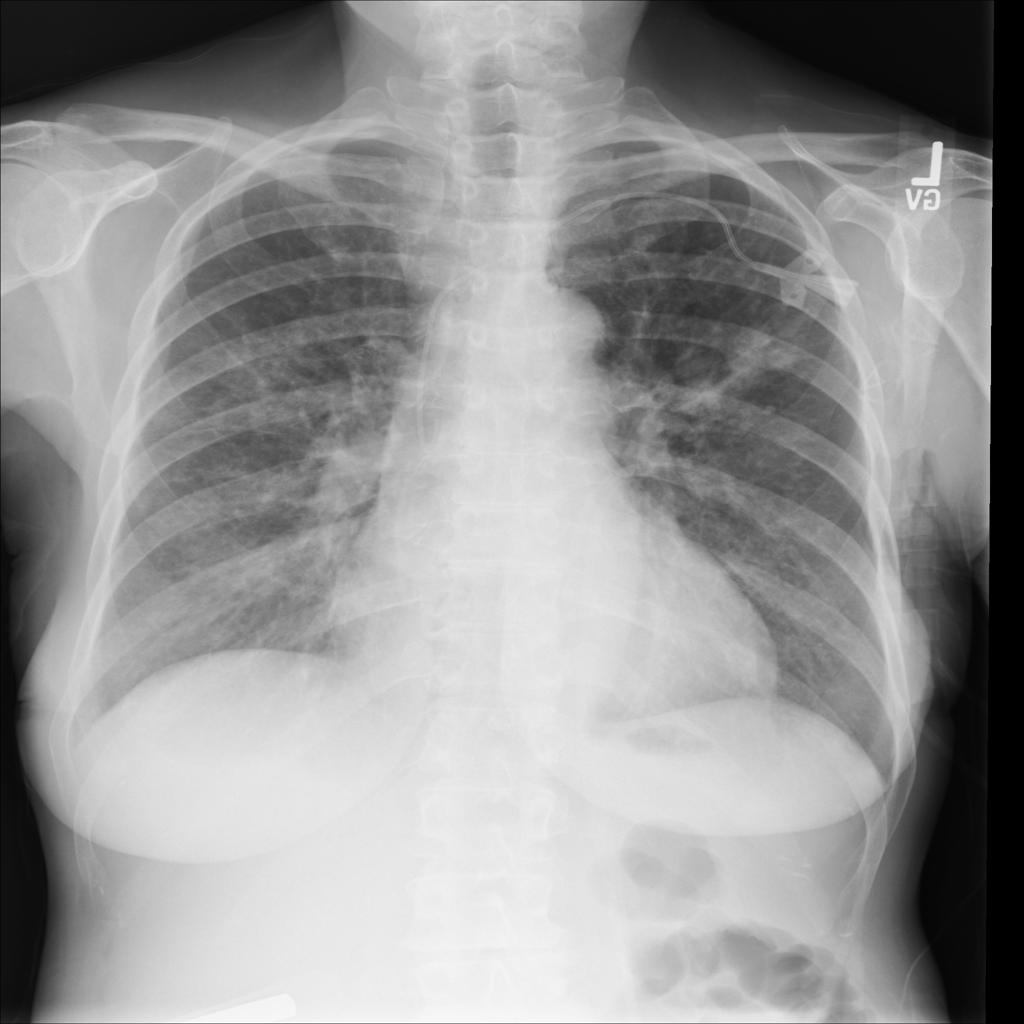nodule: (720, 318, 805, 387), (709, 627, 787, 700)
